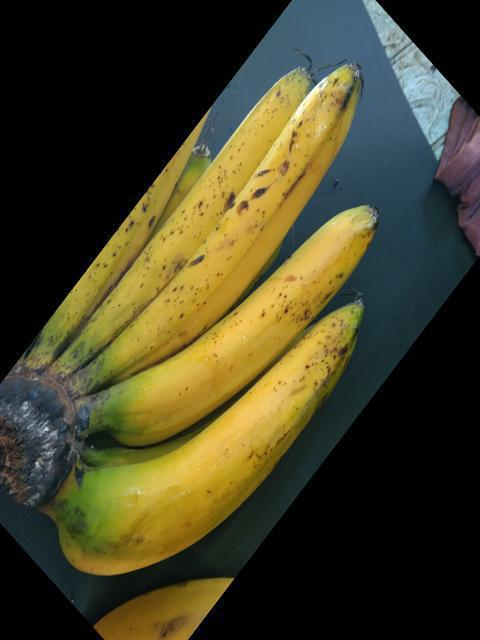ripe: (57, 331, 371, 598), (105, 64, 368, 369), (78, 205, 375, 430)
